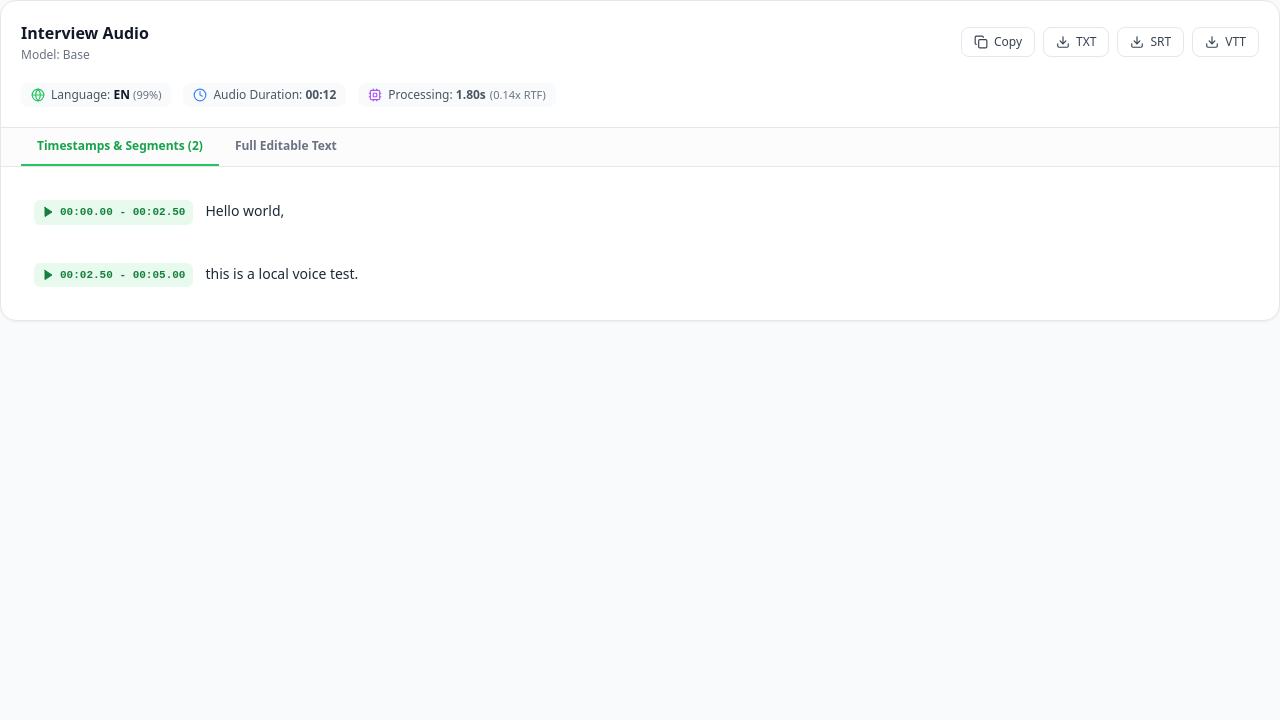
it: TranscriptEditor Component › allows switching to full editable text mode
Click the button "Full Editable Text": click(286, 147) [219, 128, 353, 166]
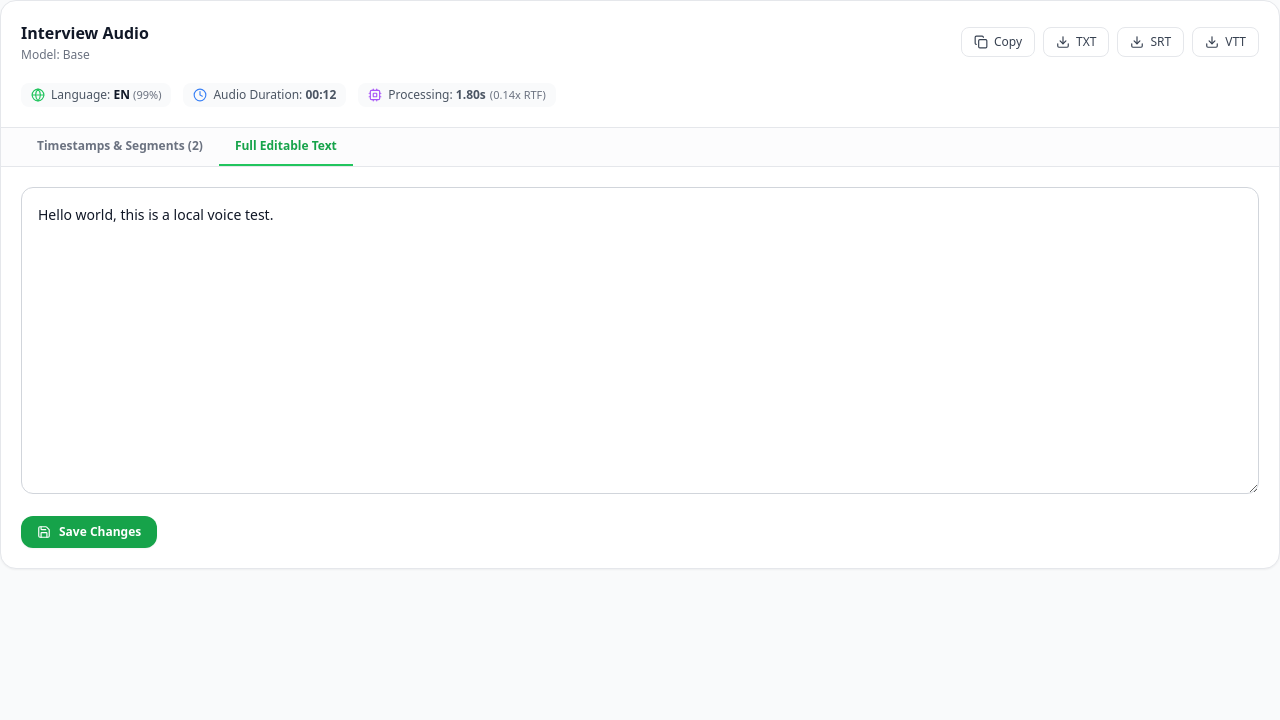
Now the text box with placeholder "Edit your transcript here..." holds "Hello world, this is a local voice test.", box [21, 187, 1259, 494]
